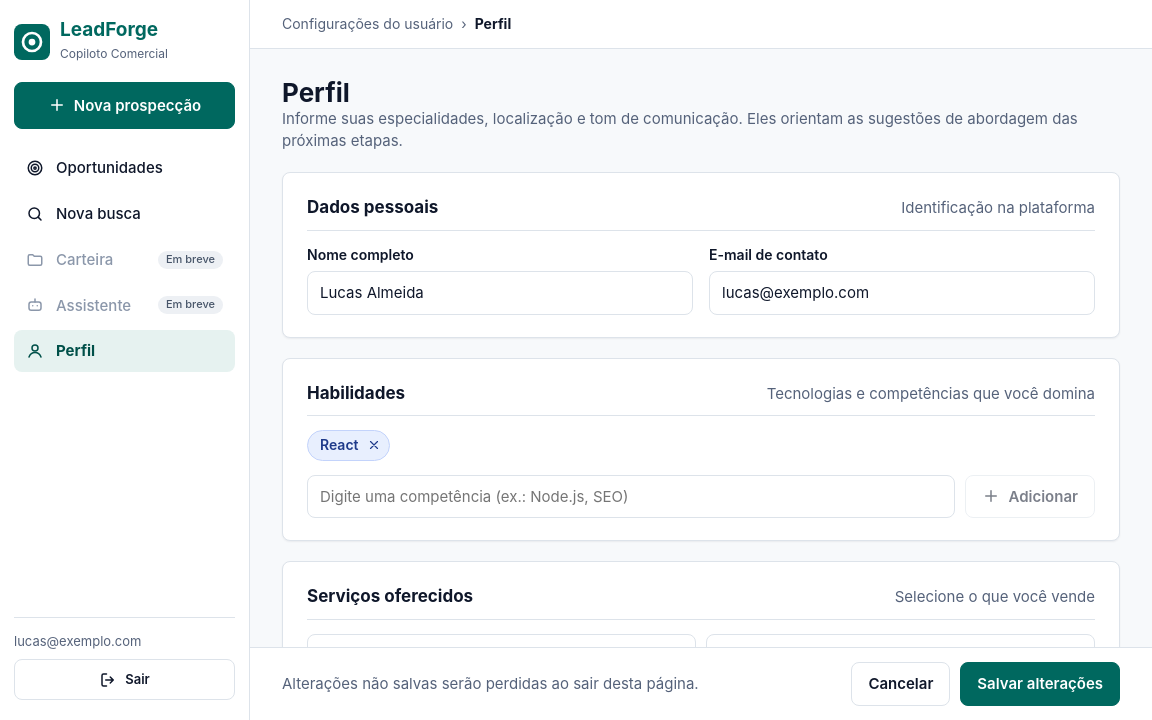
Scenario: tela Perfil › remove habilidade e Cancelar desfaz as alterações
This screenshot has width=1152, height=720.
Click the button named "Remover React": (374, 446) [364,436,382,454]
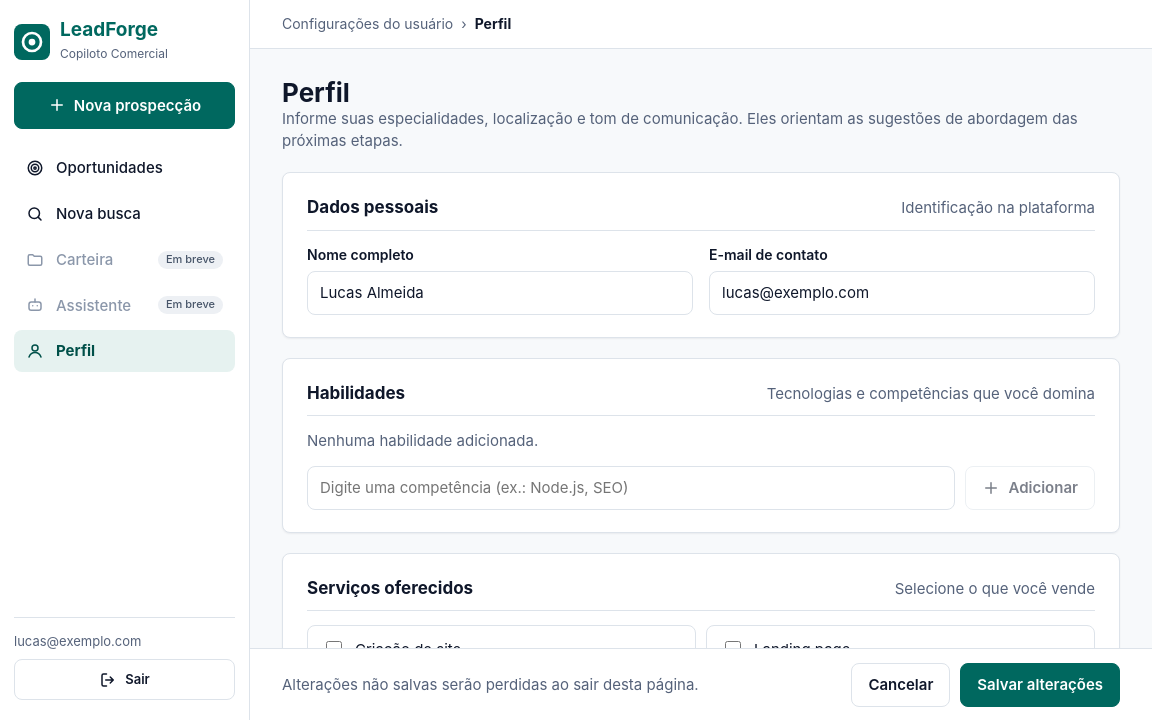
Check: the text "Nenhuma habilidade adicionada." is shown, box [307,430,538,452]
Click the button "Cancelar": (901, 684) [851,662,950,706]
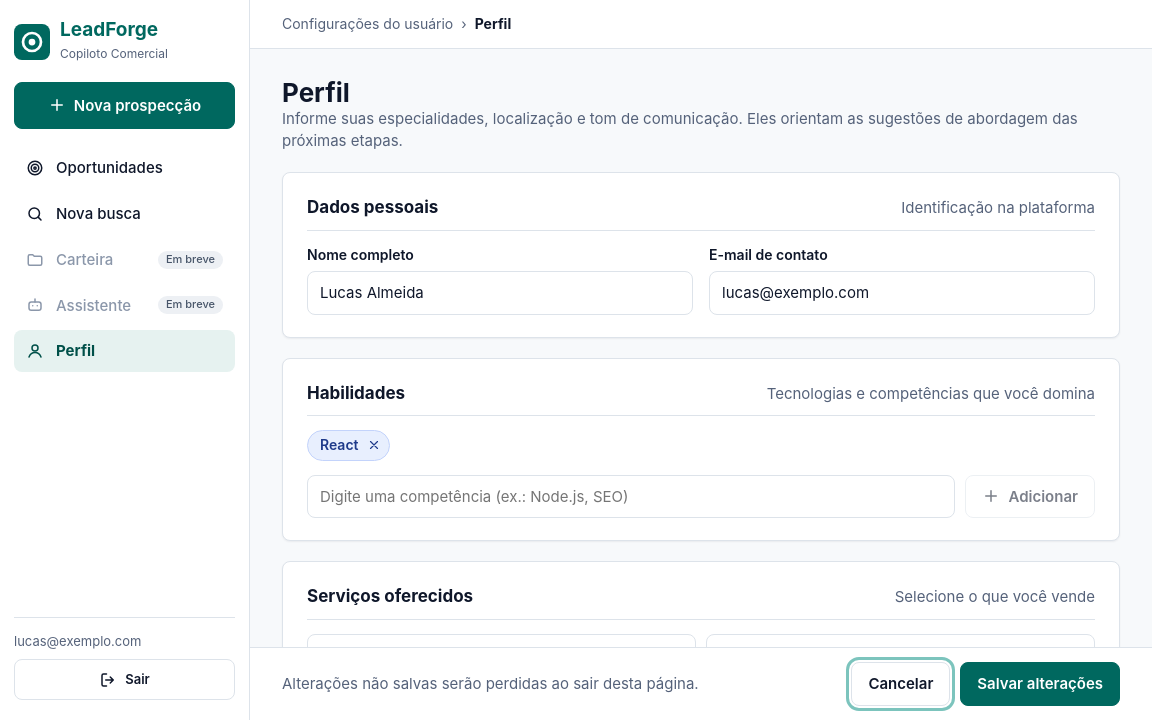
Check: the text "React" is shown, box [307,430,390,461]
